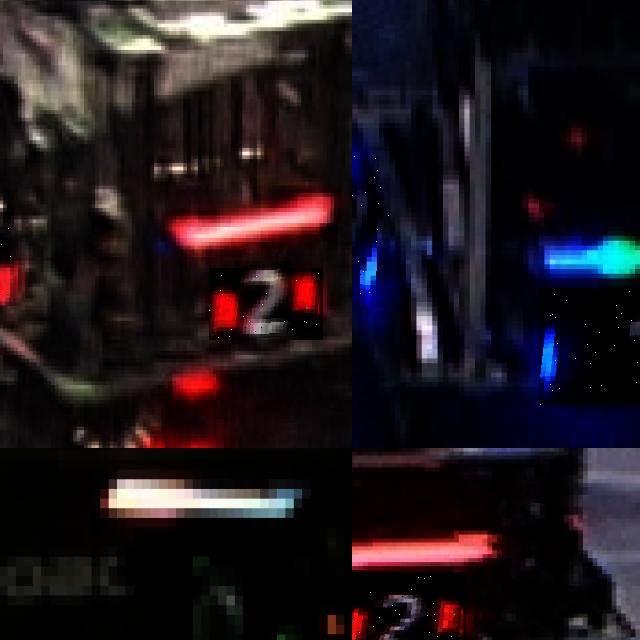B1: (539, 287, 640, 405), (352, 156, 389, 306)
R2: (209, 268, 323, 340), (352, 572, 466, 640), (0, 227, 17, 306)
